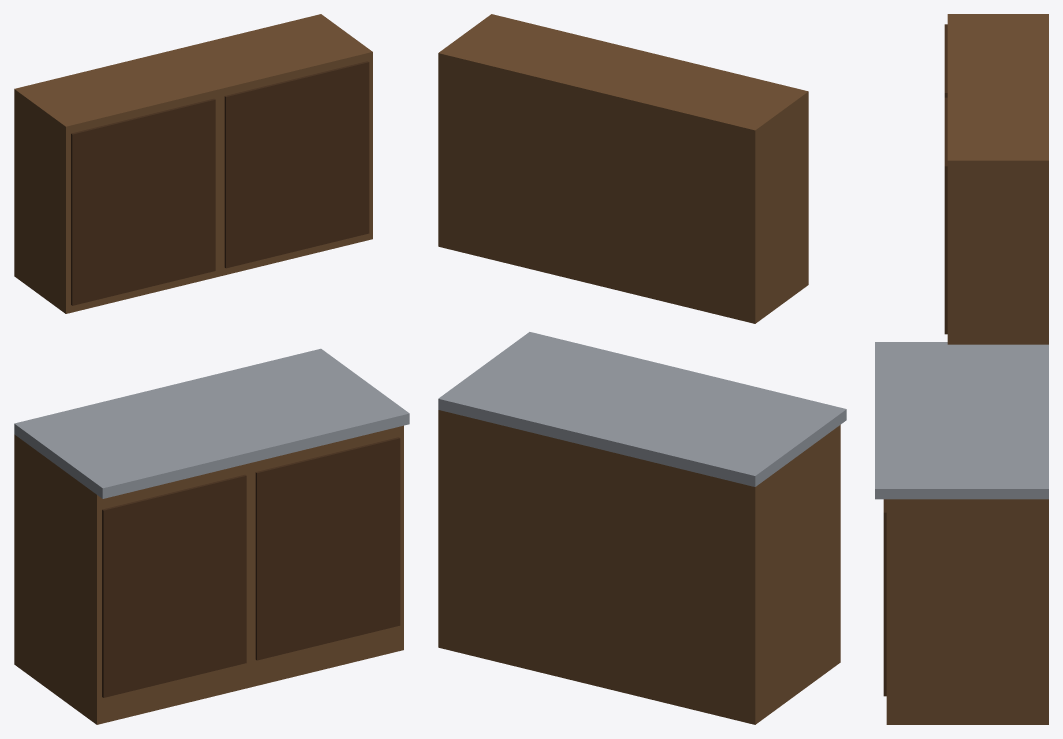
Rendered from kitchen cabinet.glb.
The picture shows the model from 3 angles, left to right: view 1: azimuth 30°, elevation 25°; view 2: azimuth 150°, elevation 25°; view 3: azimuth 270°, elevation 25°; orthographic projection. The views are drawn at different scales.
Parts seen in each view (by area): view 1: kitchen cabinet; view 2: kitchen cabinet; view 3: kitchen cabinet.
Boxes of the visible parts, x1=… form: kitchen cabinet: x1=14, y1=14, x2=409, y2=724; kitchen cabinet: x1=438, y1=14, x2=846, y2=724; kitchen cabinet: x1=875, y1=14, x2=1048, y2=724.
Bounding box in the file's own units: 1.2 × 2.15 × 0.6.
